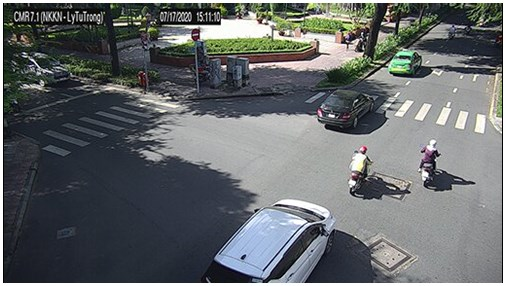di_bo: (344, 33, 352, 49)
xe_hoi: (200, 199, 335, 283), (318, 89, 376, 130), (13, 52, 70, 86), (389, 49, 423, 75)
xe_may: (347, 146, 372, 197), (419, 138, 439, 187), (448, 24, 456, 39)
